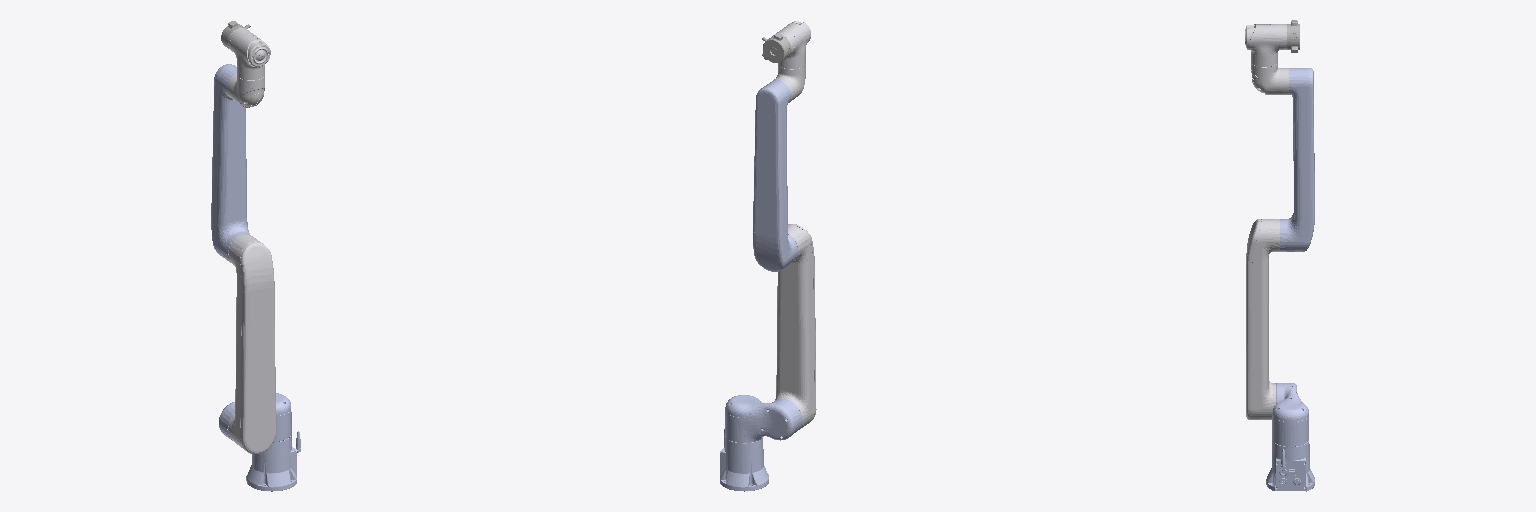
URDF robot description (rm_eco63):
<?xml version="1.0" encoding="utf-8"?>
<!-- This URDF was automatically created by SolidWorks to URDF Exporter! Originally created by [author] ([email redacted]) 
     Commit Version: 1.6.0-1-g15f4949  Build Version: 1.6.7594.29634
     For more information, please see http://wiki.ros.org/sw_urdf_exporter -->
<robot
  name="rm_eco63">
  <link
    name="base_link">
    <inertial>
      <origin
        xyz="-0.0819699961303711 -0.0464753726622393 0.526722271495911"
        rpy="0 0 0" />
      <mass
        value="8.97974481667473" />
      <inertia
        ixx="0.862297666639592"
        ixy="-0.00170110773340804"
        ixz="0.0134260863948258"
        iyy="0.853404080505364"
        iyz="-0.0335323790979435"
        izz="0.021909948868005" />
    </inertial>
    <visual>
      <origin
        xyz="0 0 0"
        rpy="0 0 0" />
      <geometry>
        <mesh
          filename="package://rm_description/meshes/ECO63/base_link.STL" />
      </geometry>
      <material
        name="">
        <color
          rgba="0.792156862745098 0.819607843137255 0.933333333333333 1" />
      </material>
    </visual>
    <collision>
      <origin
        xyz="0 0 0"
        rpy="0 0 0" />
      <geometry>
        <mesh
          filename="package://rm_description/meshes/ECO63/base_link.STL" />
      </geometry>
    </collision>
  </link>
  <link
    name="Link1">
    <inertial>
      <origin
        xyz="-0.0309493055609114 -0.0012728567226139 -0.00524336672353307"
        rpy="0 0 0" />
      <mass
        value="0.656374618338142" />
      <inertia
        ixx="0.000538922068295209"
        ixy="-6.49558484347273E-05"
        ixz="0.000104084843141859"
        iyy="0.00162201405585815"
        iyz="6.13990176963193E-06"
        izz="0.00151559483136641" />
    </inertial>
    <visual>
      <origin
        xyz="0 0 0"
        rpy="0 0 0" />
      <geometry>
        <mesh
          filename="package://rm_description/meshes/ECO63/Link1.STL" />
      </geometry>
      <material
        name="">
        <color
          rgba="0.792156862745098 0.819607843137255 0.933333333333333 1" />
      </material>
    </visual>
    <collision>
      <origin
        xyz="0 0 0"
        rpy="0 0 0" />
      <geometry>
        <mesh
          filename="package://rm_description/meshes/ECO63/Link1.STL" />
      </geometry>
    </collision>
  </link>
  <joint
    name="joint1"
    type="revolute">
    <origin
      xyz="0 0 0.1625"
      rpy="0 0 0" />
    <parent
      link="base_link" />
    <child
      link="Link1" />
    <axis
      xyz="0 0 1" />
    <limit
      lower="-3.105"
      upper="3.105"
      effort="60"
      velocity="3.14" />
  </joint>
  <link
    name="Link2">
    <inertial>
      <origin
        xyz="0.194682247033962 -1.86346038127949E-07 0.0708742731440949"
        rpy="0 0 0" />
      <mass
        value="5.26262523683375" />
      <inertia
        ixx="0.00404170032131906"
        ixy="-5.65174393111021E-07"
        ixz="0.00121807022294723"
        iyy="0.109727764384232"
        iyz="-2.72124756899763E-09"
        izz="0.110681578185881" />
    </inertial>
    <visual>
      <origin
        xyz="0 0 0"
        rpy="0 0 0" />
      <geometry>
        <mesh
          filename="package://rm_description/meshes/ECO63/Link2.STL" />
      </geometry>
      <material
        name="">
        <color
          rgba="0.866666666666667 0.866666666666667 0.890196078431372 1" />
      </material>
    </visual>
    <collision>
      <origin
        xyz="0 0 0"
        rpy="0 0 0" />
      <geometry>
        <mesh
          filename="package://rm_description/meshes/ECO63/Link2.STL" />
      </geometry>
    </collision>
  </link>
  <joint
    name="joint2"
    type="revolute">
    <origin
      xyz="-0.086 0 0"
      rpy="1.5708 -1.5708 0" />
    <parent
      link="Link1" />
    <child
      link="Link2" />
    <axis
      xyz="0 0 -1" />
    <limit
      lower="-3.105"
      upper="2.355"
      effort="60"
      velocity="3.14" />
  </joint>
  <link
    name="Link3">
    <inertial>
      <origin
        xyz="0.179310475039839 1.86928912626616E-09 0.0308638630867258"
        rpy="0 0 0" />
      <mass
        value="1.3509329667983" />
      <inertia
        ixx="0.000796925531981305"
        ixy="-2.89740446981148E-08"
        ixz="-0.000607432295339128"
        iyy="0.0219803140031169"
        iyz="1.84171394643915E-08"
        izz="0.022157190260175" />
    </inertial>
    <visual>
      <origin
        xyz="0 0 0"
        rpy="0 0 0" />
      <geometry>
        <mesh
          filename="package://rm_description/meshes/ECO63/Link3.STL" />
      </geometry>
      <material
        name="">
        <color
          rgba="0.792156862745098 0.819607843137255 0.933333333333333 1" />
      </material>
    </visual>
    <collision>
      <origin
        xyz="0 0 0"
        rpy="0 0 0" />
      <geometry>
        <mesh
          filename="package://rm_description/meshes/ECO63/Link3.STL" />
      </geometry>
    </collision>
  </link>
  <joint
    name="joint3"
    type="revolute">
    <origin
      xyz="0.41 0 0"
      rpy="3.1416 -0.0087266 0" />
    <parent
      link="Link2" />
    <child
      link="Link3" />
    <axis
      xyz="-0.0087265 0 0.99996" />
    <limit
      lower="-2.93"
      upper="2.756"
      effort="30"
      velocity="3.14" />
  </joint>
  <link
    name="Link4">
    <inertial>
      <origin
        xyz="1.18737948139047E-06 -0.00995387687025817 0.0129236518197595"
        rpy="0 0 0" />
      <mass
        value="0.733001235394853" />
      <inertia
        ixx="0.000641256799113762"
        ixy="7.16323347889126E-09"
        ixz="-6.76890724051393E-09"
        iyy="0.000512473473605366"
        iyz="-0.000109077537111131"
        izz="0.000460316607732565" />
    </inertial>
    <visual>
      <origin
        xyz="0 0 0"
        rpy="0 0 0" />
      <geometry>
        <mesh
          filename="package://rm_description/meshes/ECO63/Link4.STL" />
      </geometry>
      <material
        name="">
        <color
          rgba="0.866666666666667 0.866666666666667 0.890196078431372 1" />
      </material>
    </visual>
    <collision>
      <origin
        xyz="0 0 0"
        rpy="0 0 0" />
      <geometry>
        <mesh
          filename="package://rm_description/meshes/ECO63/Link4.STL" />
      </geometry>
    </collision>
  </link>
  <joint
    name="joint4"
    type="revolute">
    <origin
      xyz="0.38049 0 -0.054981"
      rpy="-0.0087266 0 1.5708" />
    <parent
      link="Link3" />
    <child
      link="Link4" />
    <axis
      xyz="0 0 1" />
    <limit
      lower="-3.105"
      upper="3.105"
      effort="10"
      velocity="3.14" />
  </joint>
  <link
    name="Link5">
    <inertial>
      <origin
        xyz="1.10373835336686E-06 0.00366306859871773 -0.0136222948606266"
        rpy="0 0 0" />
      <mass
        value="0.911747774463918" />
      <inertia
        ixx="0.000797250089831515"
        ixy="-3.0783066224908E-08"
        ixz="-1.86945083800088E-09"
        iyy="0.000572176795709541"
        iyz="-0.000145598908387624"
        izz="0.000625883738000052" />
    </inertial>
    <visual>
      <origin
        xyz="0 0 0"
        rpy="0 0 0" />
      <geometry>
        <mesh
          filename="package://rm_description/meshes/ECO63/Link5.STL" />
      </geometry>
      <material
        name="">
        <color
          rgba="0.866666666666667 0.866666666666667 0.890196078431372 1" />
      </material>
    </visual>
    <collision>
      <origin
        xyz="0 0 0"
        rpy="0 0 0" />
      <geometry>
        <mesh
          filename="package://rm_description/meshes/ECO63/Link5.STL" />
      </geometry>
    </collision>
  </link>
  <joint
    name="joint5"
    type="revolute">
    <origin
      xyz="0 -0.11 -0.0006"
      rpy="1.5708 0 0" />
    <parent
      link="Link4" />
    <child
      link="Link5" />
    <axis
      xyz="0 0 -1" />
    <limit
      lower="-3.105"
      upper="3.105"
      effort="10"
      velocity="3.14" />
  </joint>
  <link
    name="Link6">
    <inertial>
      <origin
        xyz="0.000922882083248047 -9.40199566012989E-05 -0.0127047090822767"
        rpy="0 0 0" />
      <mass
        value="0.065035417997418" />
      <inertia
        ixx="2.11425102567822E-05"
        ixy="-2.28752901090794E-08"
        ixz="-2.56006744332993E-08"
        iyy="1.81097258369991E-05"
        iyz="-1.0175060606431E-08"
        izz="3.19000225583591E-05" />
    </inertial>
    <visual>
      <origin
        xyz="0 0 0"
        rpy="0 0 0" />
      <geometry>
        <mesh
          filename="package://rm_description/meshes/ECO63/Link6.STL" />
      </geometry>
      <material
        name="">
        <color
          rgba="0.752941176470588 0.752941176470588 0.752941176470588 1" />
      </material>
    </visual>
    <collision>
      <origin
        xyz="0 0 0"
        rpy="0 0 0" />
      <geometry>
        <mesh
          filename="package://rm_description/meshes/ECO63/Link6.STL" />
      </geometry>
    </collision>
  </link>
  <joint
    name="joint6"
    type="revolute">
    <origin
      xyz="-0.00010641 0.0797 -0.00010731"
      rpy="-1.5708 0 0" />
    <parent
      link="Link5" />
    <child
      link="Link6" />
    <axis
      xyz="0 0 -1" />
    <limit
      lower="-6.28"
      upper="6.28"
      effort="10"
      velocity="3.14" />
  </joint>
</robot>

--- Facts derived from the render (not from the file) ---
3 views of the same robot in one strip: view 1: azimuth 30°, elevation 25°; view 2: azimuth 150°, elevation 25°; view 3: azimuth 270°, elevation 25° (orthographic).
Robot: rm_eco63 — 7 links, 6 joints (6 revolute); root link base_link; default pose: all joints at 0.
Visible links, largest first — view 1: Link2, Link3, base_link, Link5, Link1, Link4; view 2: Link3, Link2, Link1, base_link, Link5, Link6, Link4; view 3: Link2, Link3, Link1, base_link, Link5, Link4.
Link boxes in pixels (x1,y1,x2,y2): Link2: (228, 235, 275, 453); Link3: (211, 64, 249, 262); base_link: (246, 431, 300, 491); Link5: (228, 28, 270, 79); Link1: (219, 393, 291, 441); Link4: (226, 74, 264, 107); Link3: (753, 80, 797, 271); Link2: (775, 224, 816, 429); Link1: (725, 395, 801, 442); base_link: (720, 429, 768, 491); Link5: (773, 21, 810, 68); Link6: (762, 33, 791, 62); Link4: (773, 64, 805, 102); Link2: (1246, 219, 1279, 419); Link3: (1280, 68, 1314, 251); Link1: (1272, 383, 1308, 446); base_link: (1266, 440, 1314, 491); Link5: (1245, 24, 1286, 66); Link4: (1251, 63, 1288, 94).
Size in the robot's own frame: 0.1889 by 0.1584 by 1.1 metres.
Meshes: 7 distinct files referenced, 7 mesh visuals loaded (7 binary STL).